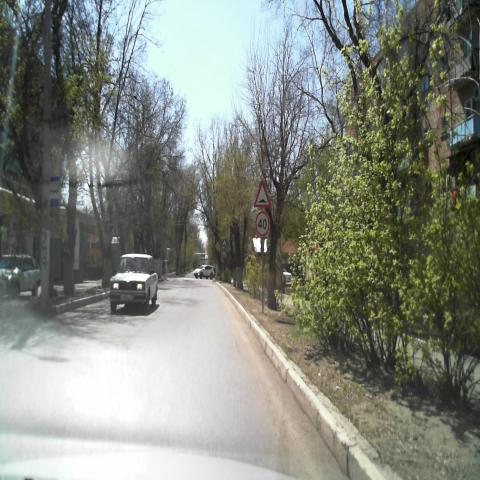5_16: (48, 176, 64, 213)
